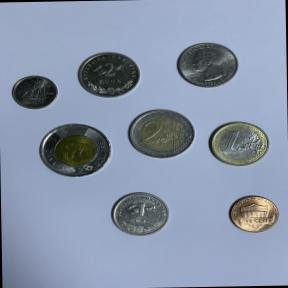coin: (35, 121, 116, 181), (124, 105, 198, 163), (73, 48, 146, 104), (172, 38, 244, 92), (206, 118, 274, 170), (225, 192, 282, 236), (9, 73, 62, 114)
